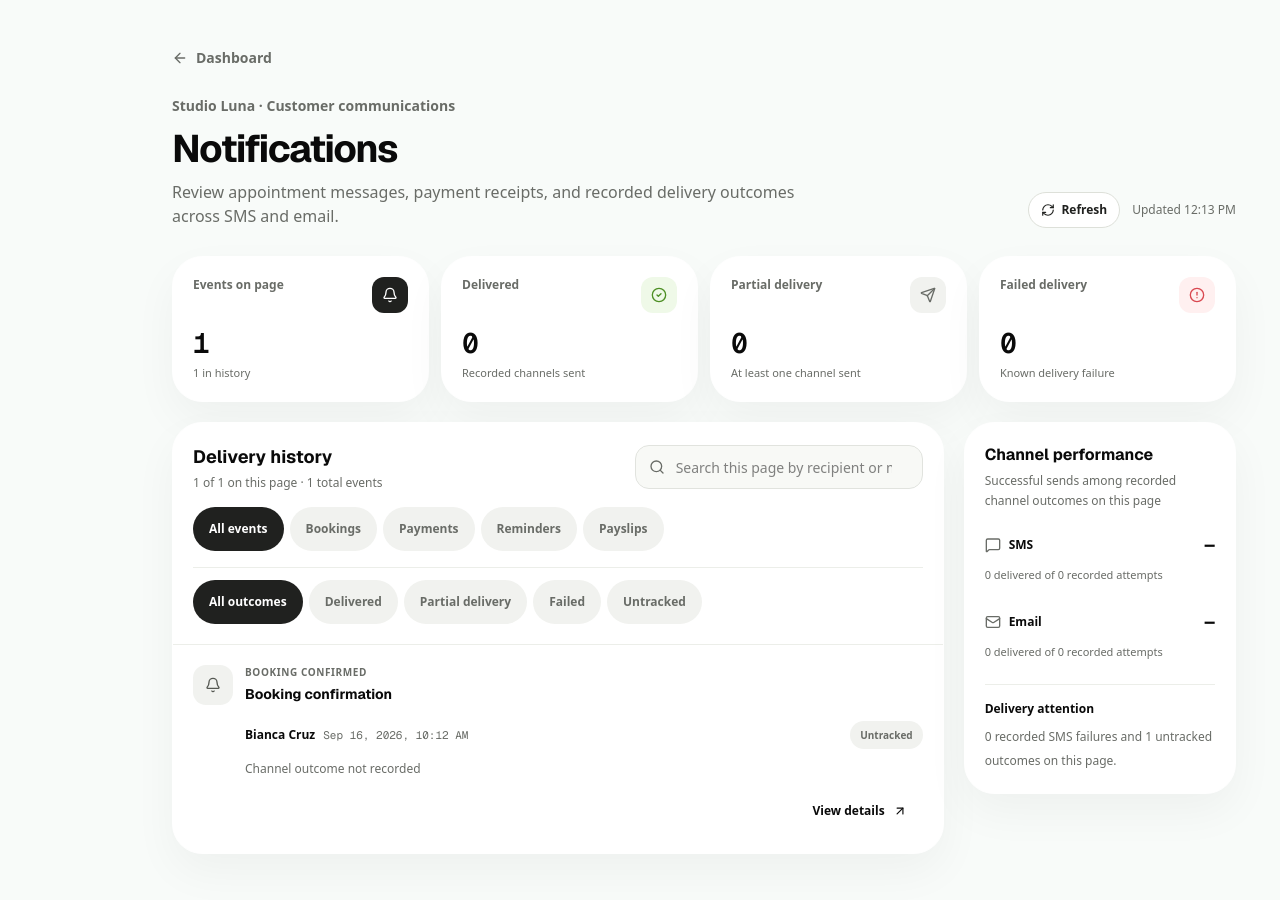
Test: live Notifications preview cache and refresh (redesign=false) › loads tenant-scoped history, retains warm data on refresh error, and retries
The width and height of the screenshot is (1280, 900).
Expected: the text "Bianca Cruz" is shown, [245, 726, 315, 743]
Click the button with aria-label "Refresh notifications".
click(1074, 210)  # box [1028, 192, 1120, 228]
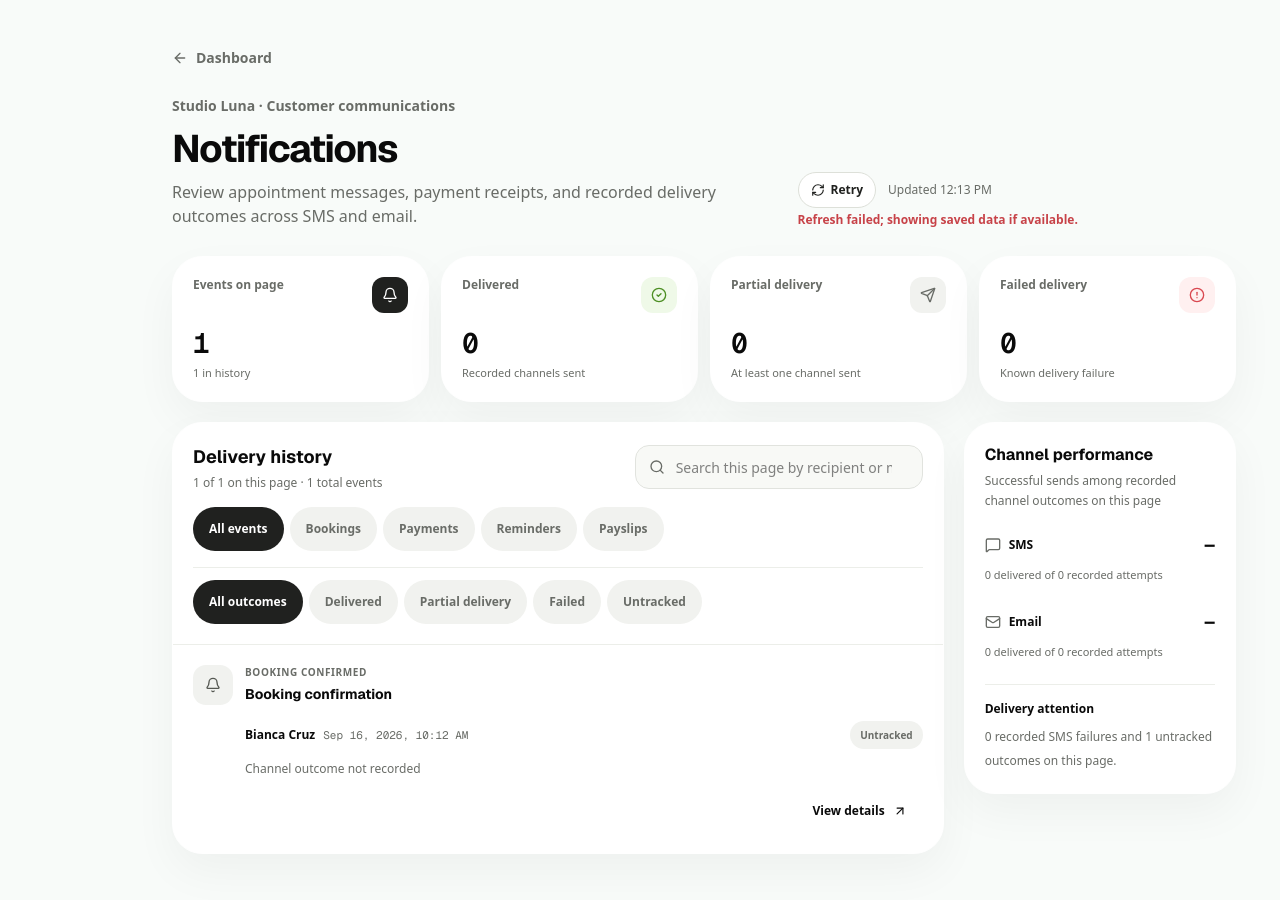
Expected: the text "Bianca Cruz" is shown, [245, 726, 315, 743]
Now the message "Refresh failed; showing saved data if available." is shown, box [798, 212, 1078, 228]
Click the button with aria-label "Refresh notifications".
click(837, 190)  # box [798, 172, 876, 208]
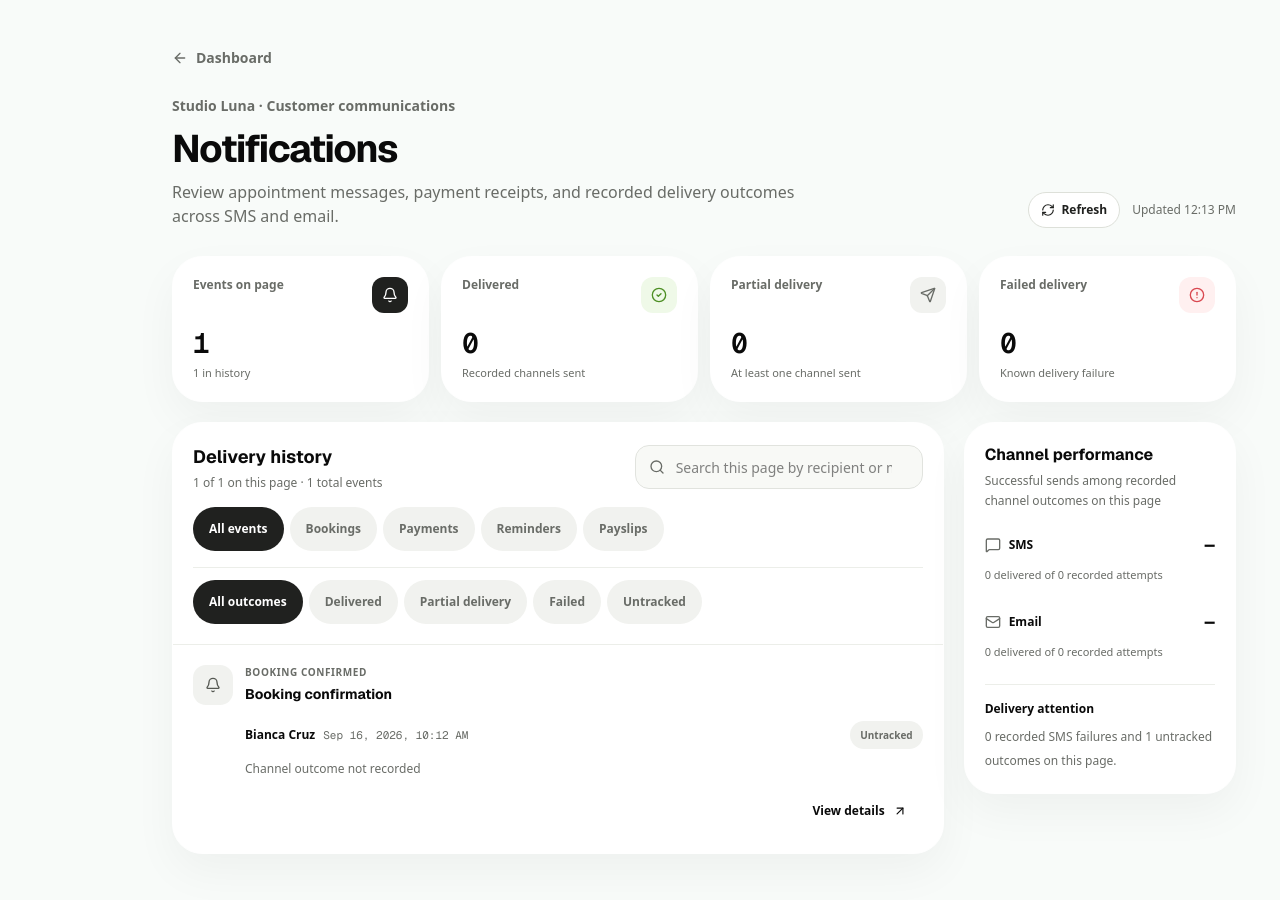
Now the message "Refresh failed; showing saved data if available." is gone
